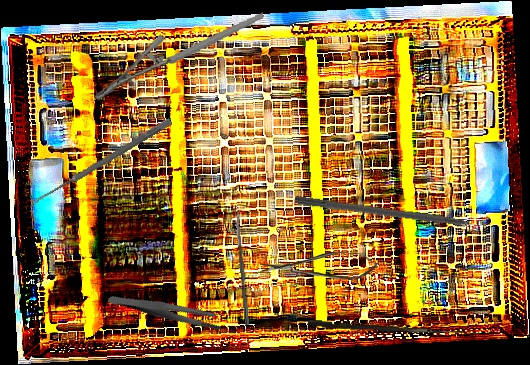Dressing Forceps: (107, 267, 226, 354)
Hook Surgical: (307, 320, 480, 335)
Micro Scissor: (259, 250, 379, 281)
Needle Holder: (87, 11, 272, 103)
Pusher: (294, 195, 495, 234)
Surgical Spoon: (30, 117, 173, 207), (234, 210, 251, 325)
